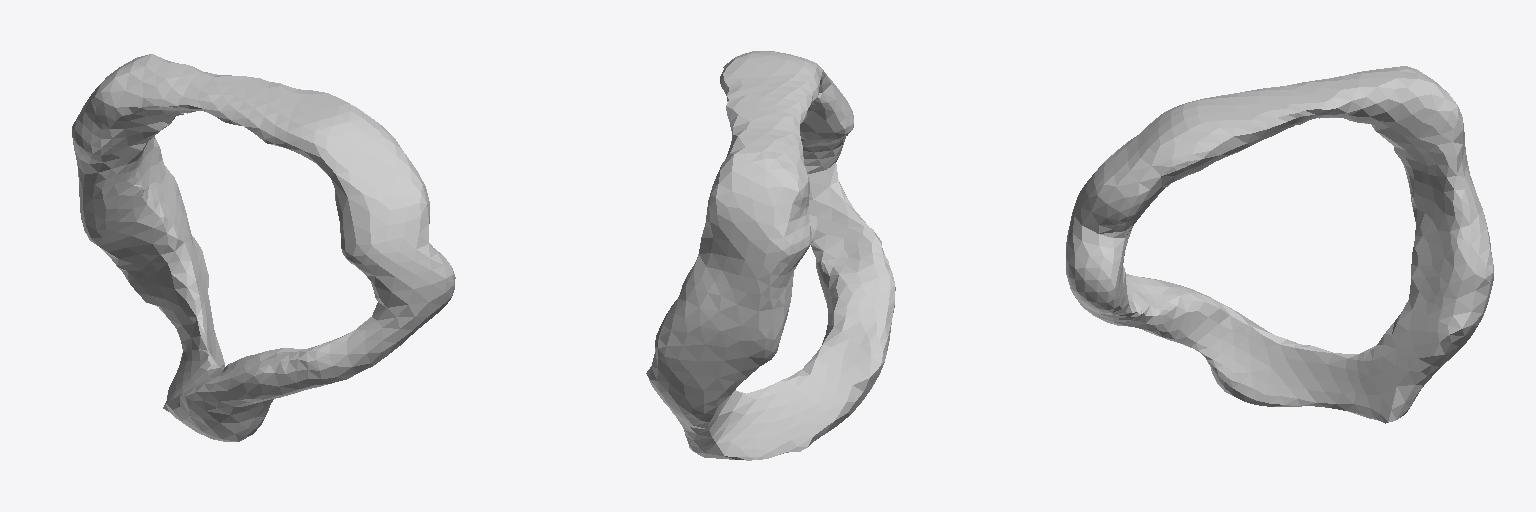
The picture shows the model from 3 angles: view 1: azimuth 30°, elevation 25°; view 2: azimuth 150°, elevation 25°; view 3: azimuth 270°, elevation 25°; orthographic projection.
Parts seen in each view (by area): view 1: Polygonal_Model_1_Triangles_0; view 2: Polygonal_Model_1_Triangles_0; view 3: Polygonal_Model_1_Triangles_0.
Part boxes in pixels (left/top/right/bottom): Polygonal_Model_1_Triangles_0: left=72, top=54, right=455, bottom=441; Polygonal_Model_1_Triangles_0: left=646, top=51, right=895, bottom=460; Polygonal_Model_1_Triangles_0: left=1066, top=66, right=1493, bottom=423.
Bounding box in the file's own units: 0.2737 × 0.3976 × 0.4801.